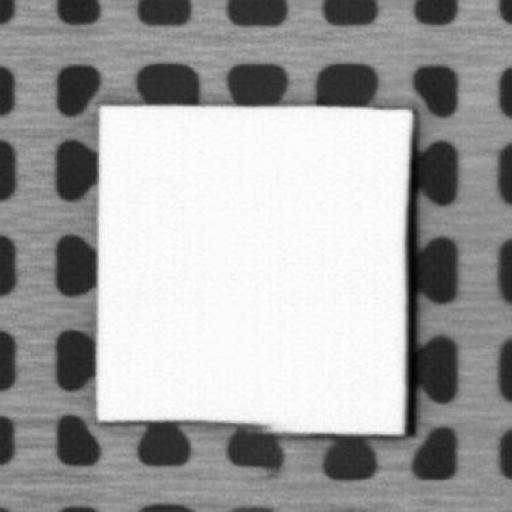DIE_BROKEN: (399, 108, 416, 440)
